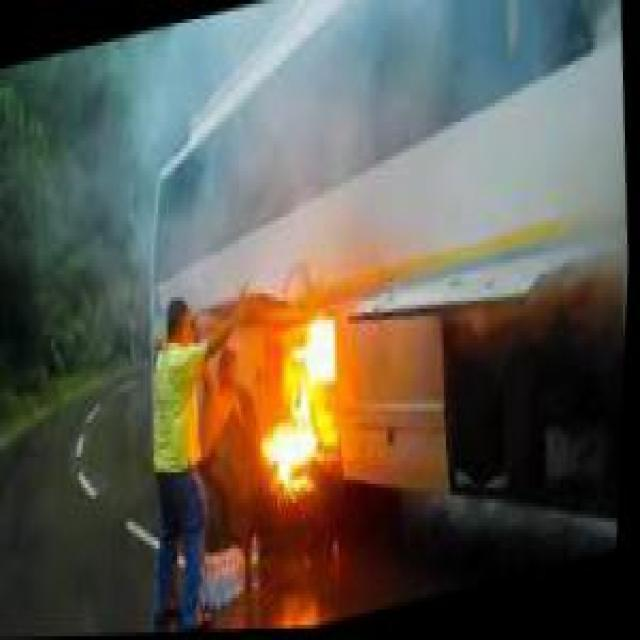Fire: (230, 278, 378, 530)
Smoke: (426, 217, 630, 404)
